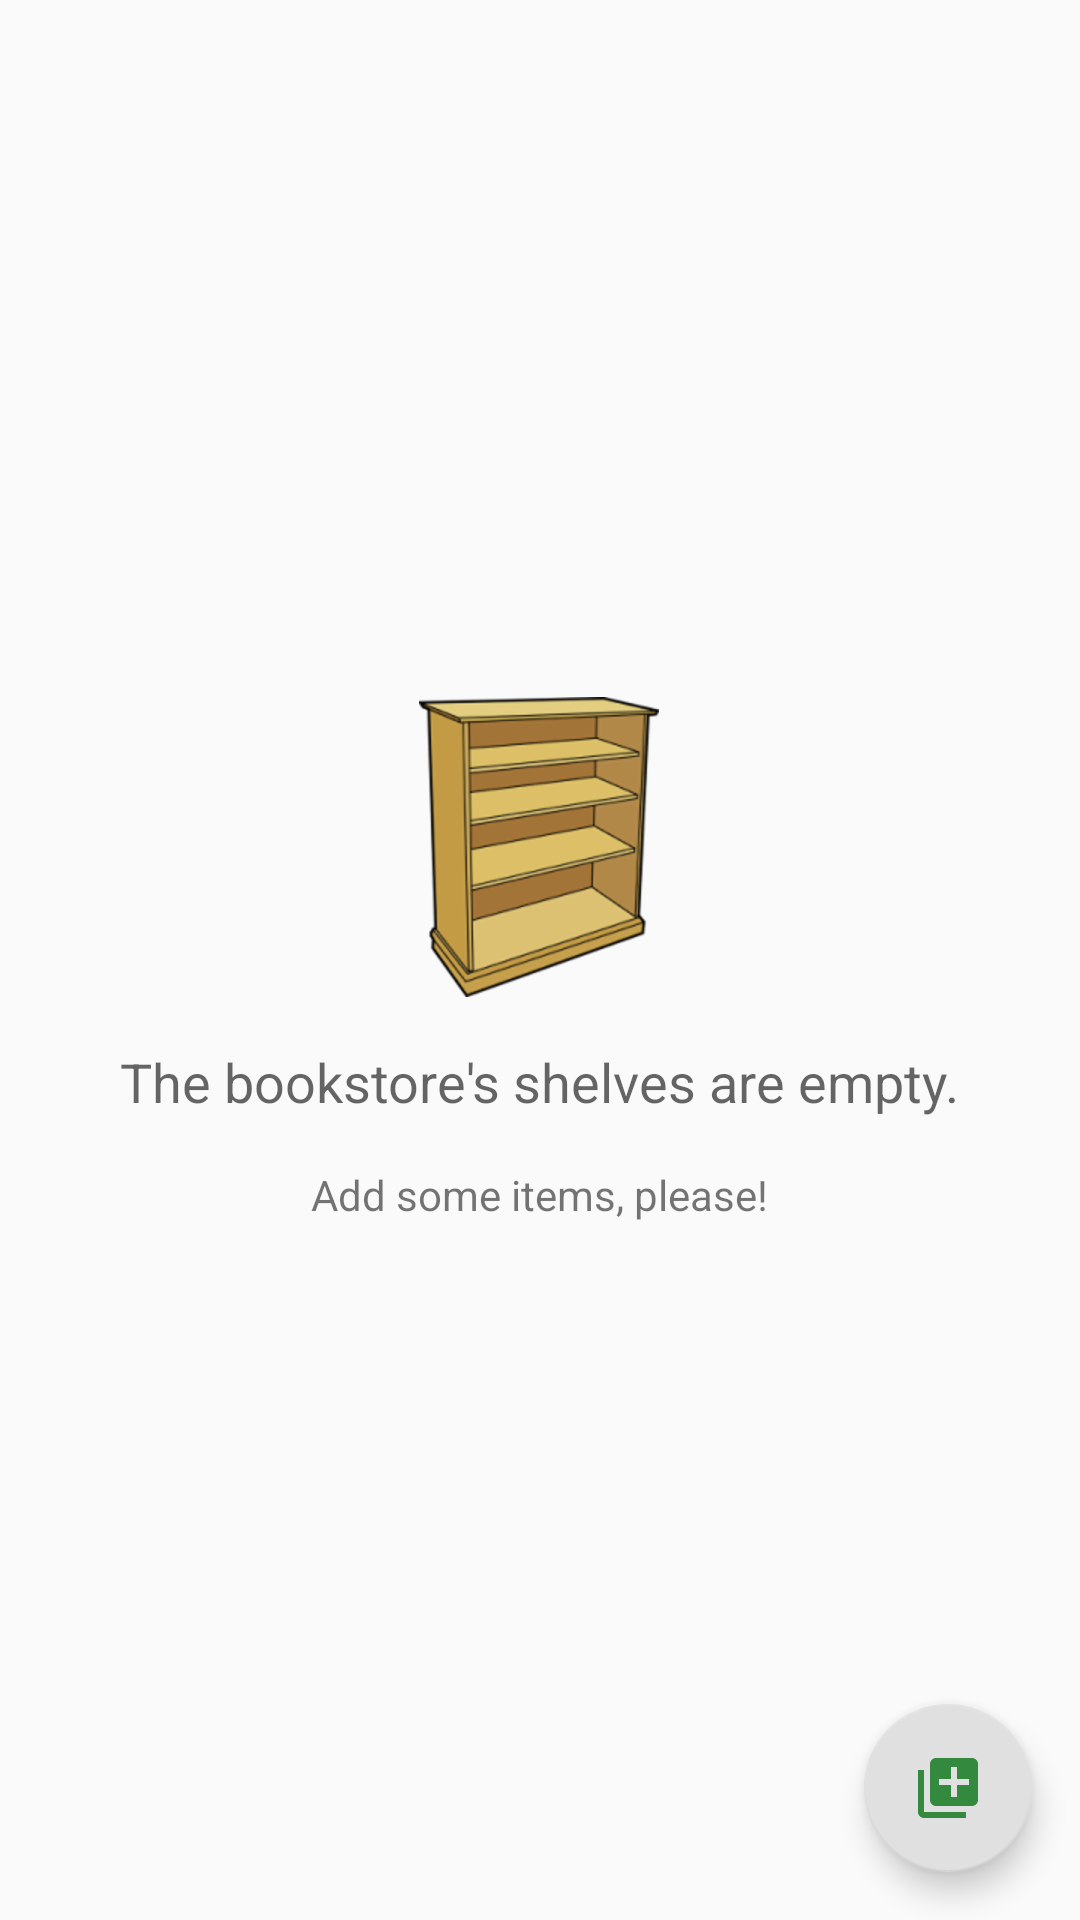

Where to tap for icons on this 1080*1920 app screen, as (x,y):
bookstore add: (948,1789)
empty bookshelf: (539,847)
